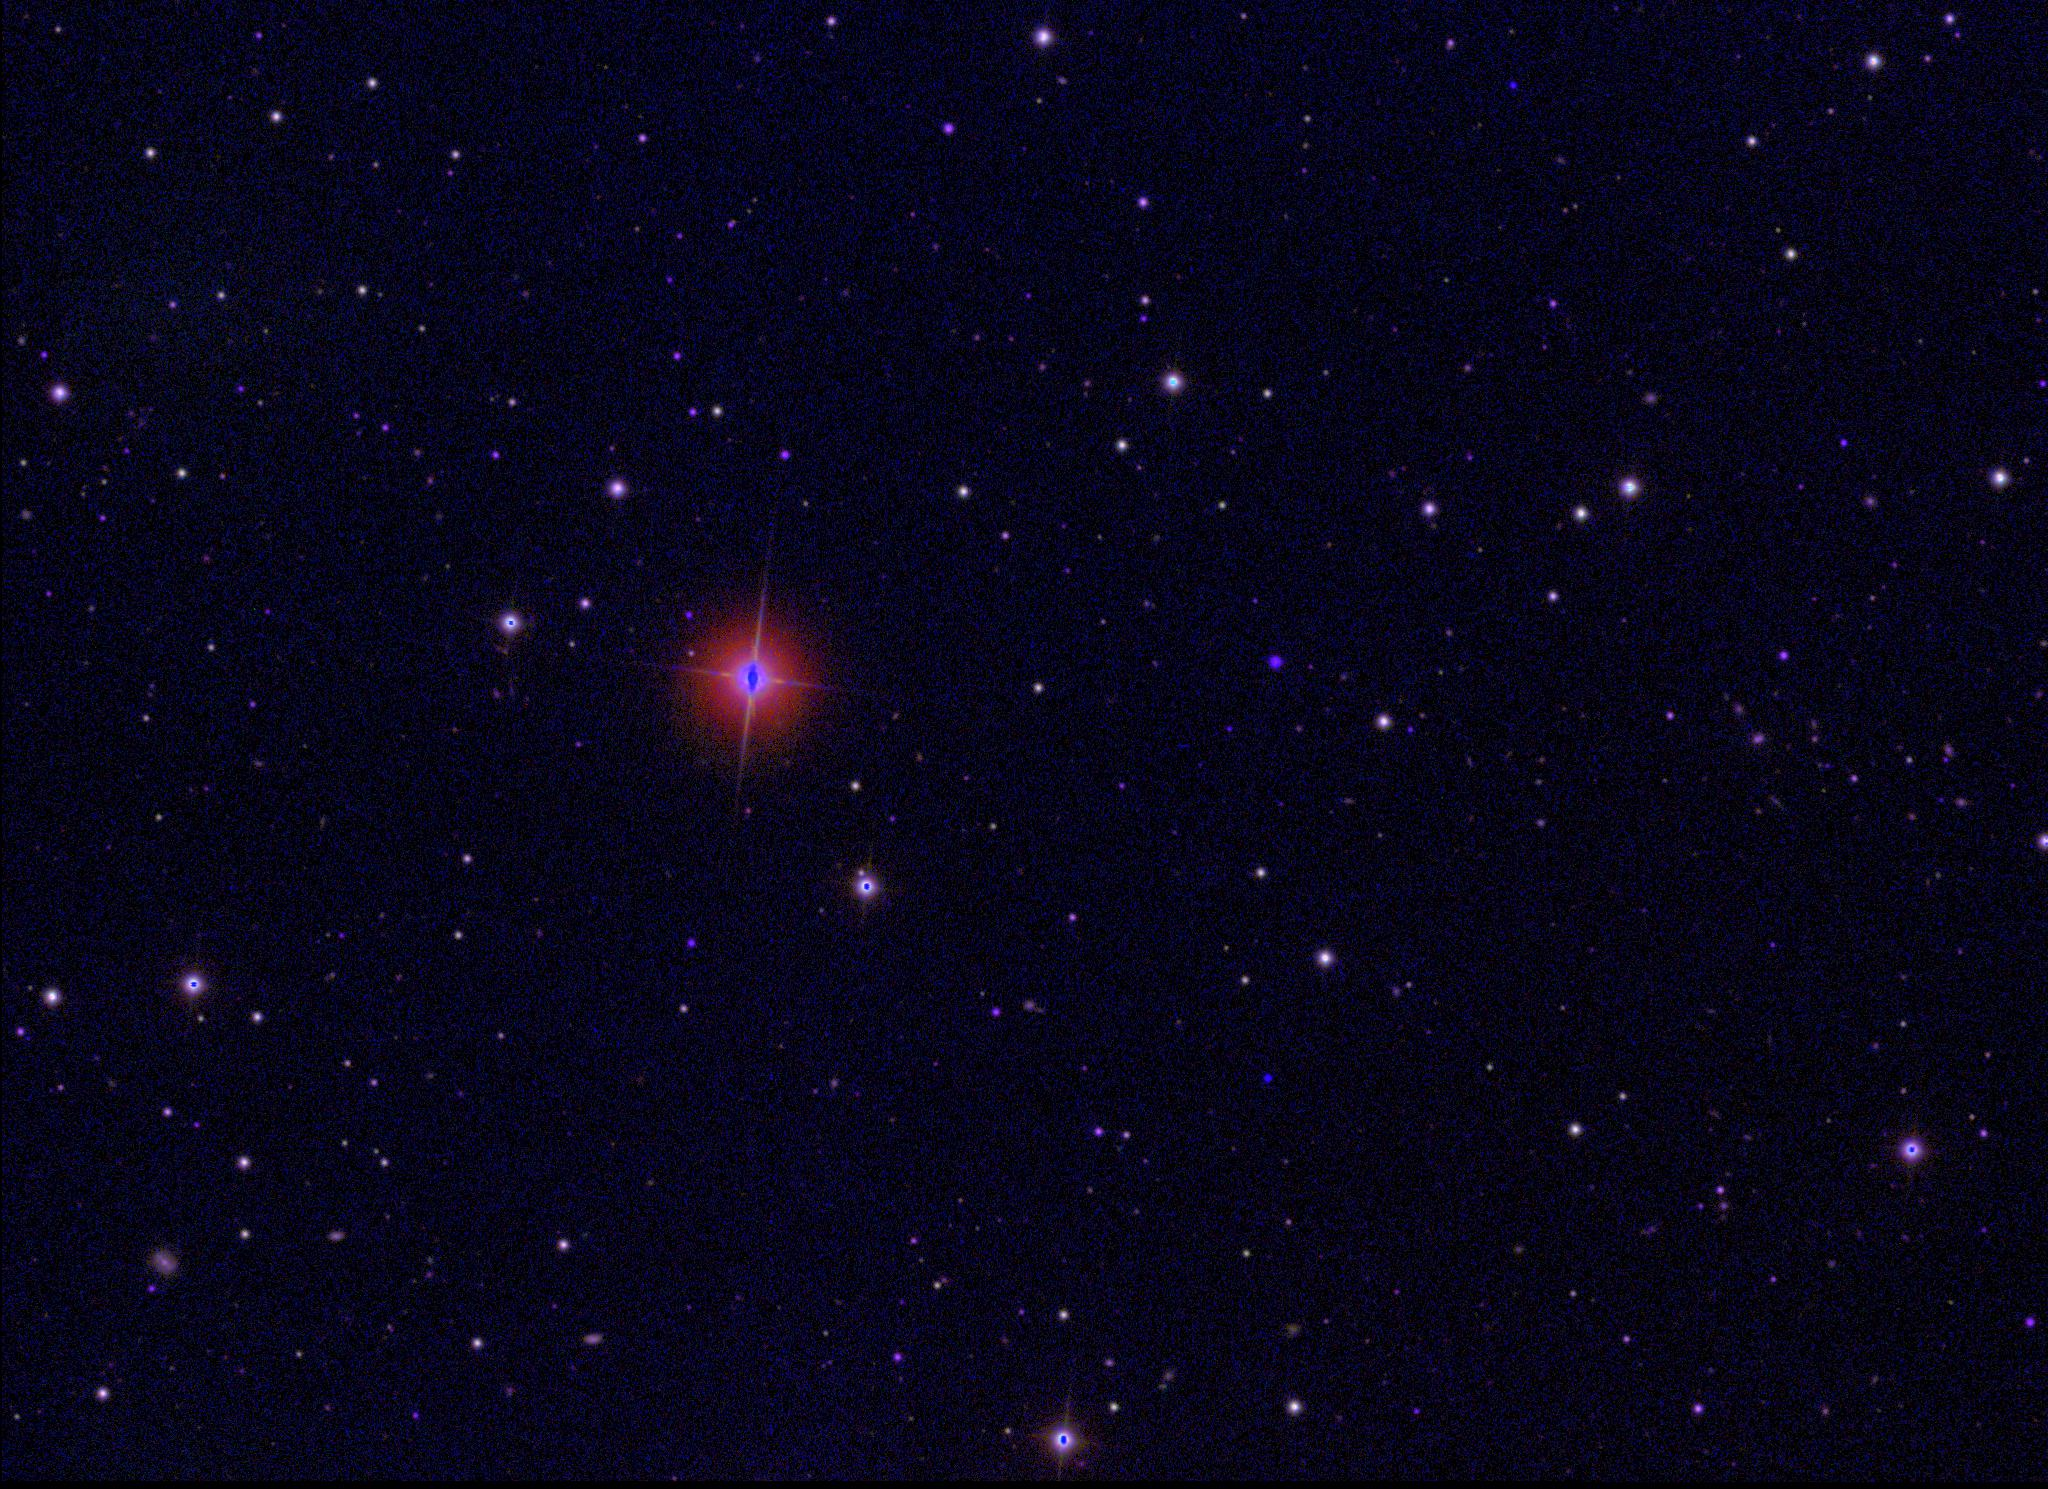L: (1261, 1071, 1275, 1085)
